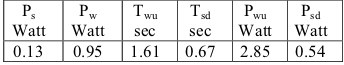column: (119, 1, 178, 63), (63, 1, 122, 62), (177, 1, 234, 63), (1, 1, 61, 59), (232, 1, 287, 64), (287, 1, 342, 63)
row: (3, 41, 343, 63)
